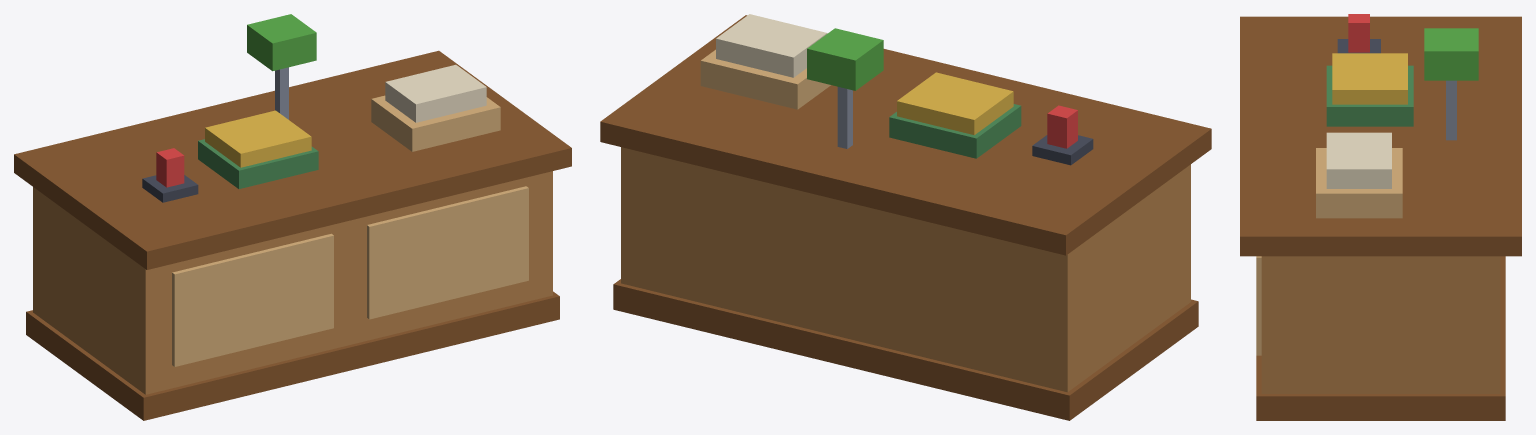
The model's file is lending-desk.glb.
The picture shows the model from 3 angles, left to right: view 1: azimuth 30°, elevation 25°; view 2: azimuth 150°, elevation 25°; view 3: azimuth 270°, elevation 25°; orthographic projection. The views are drawn at different scales.
Visible parts, largest first — view 1: lending-desk; view 2: lending-desk; view 3: lending-desk.
Boxes of the visible parts, bbox=[...] form: lending-desk: bbox=[14, 14, 571, 420]; lending-desk: bbox=[600, 14, 1211, 420]; lending-desk: bbox=[1240, 14, 1521, 420].
Size of the model in its own units: 0.96 by 0.58 by 0.52.
Materials: 1 (1 with a texture image).
